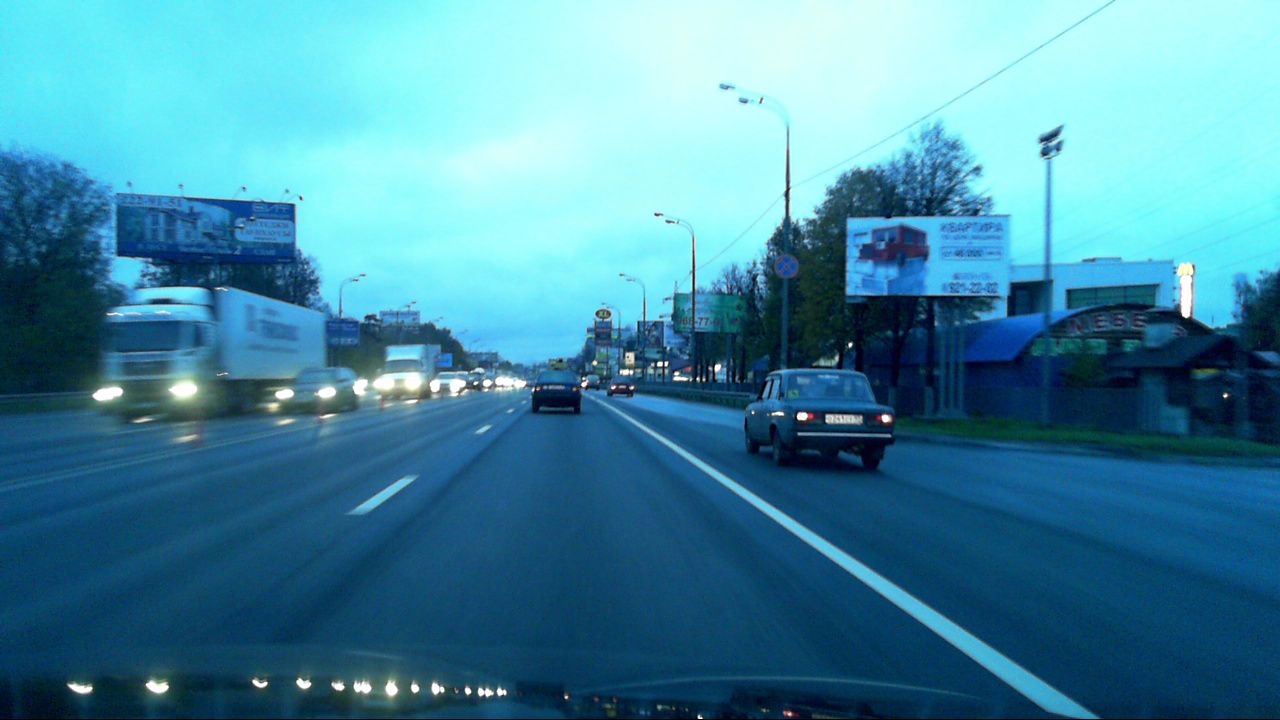No Parking: (774, 255, 798, 278)
